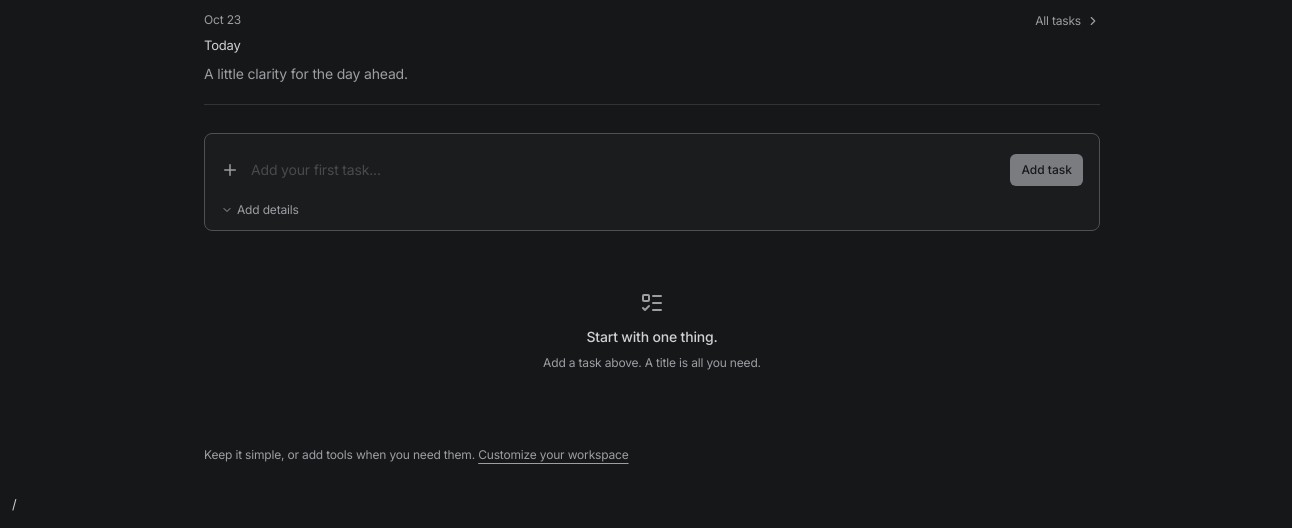
Essentials task experience › creates a task from a title without exposing development or reporting fields
This screenshot has width=1292, height=528.
Expected: the heading "Start with one thing." is shown, [586,328,718,344]
Type "Call the supplier" into the field named "New task" at x=625, y=170, box [251,146,998,194]
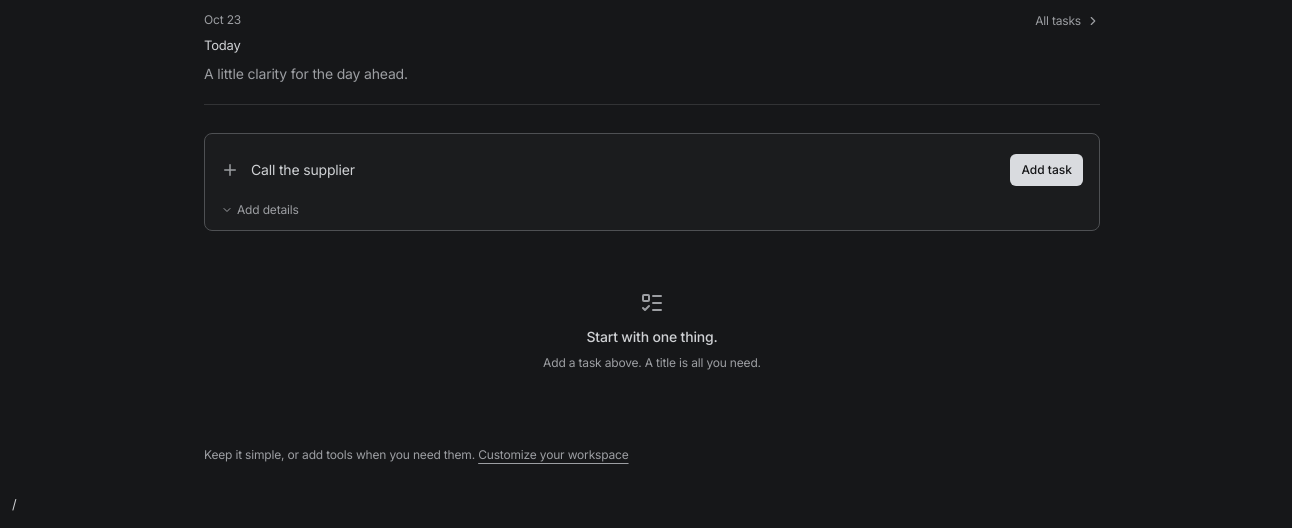
Click the button "Add task" at x=1047, y=170, box [1010,154,1083,186]
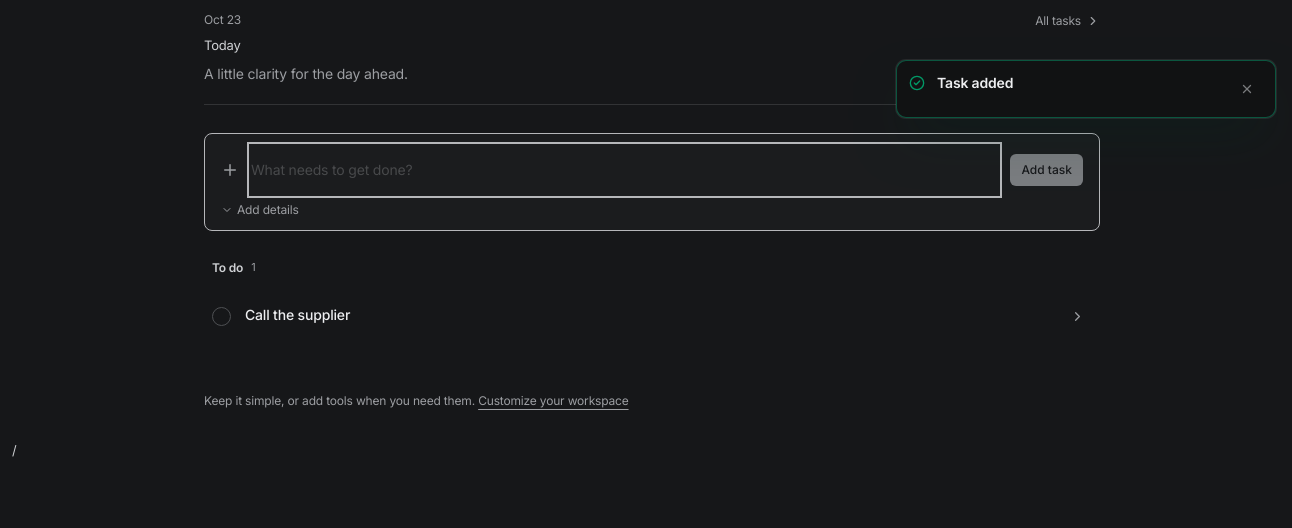
Expected: the text "Call the supplier" is shown, [245,306,350,322]
